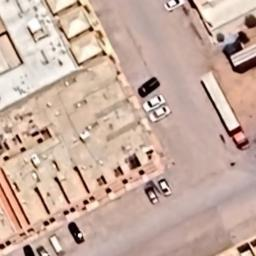sedan: (132, 74, 160, 98), (140, 94, 168, 114), (67, 222, 91, 244), (142, 183, 160, 207), (156, 174, 175, 196), (164, 0, 190, 14), (48, 236, 66, 256), (34, 243, 52, 256)
truck: (195, 70, 252, 154)
unknown: (22, 243, 32, 256)
